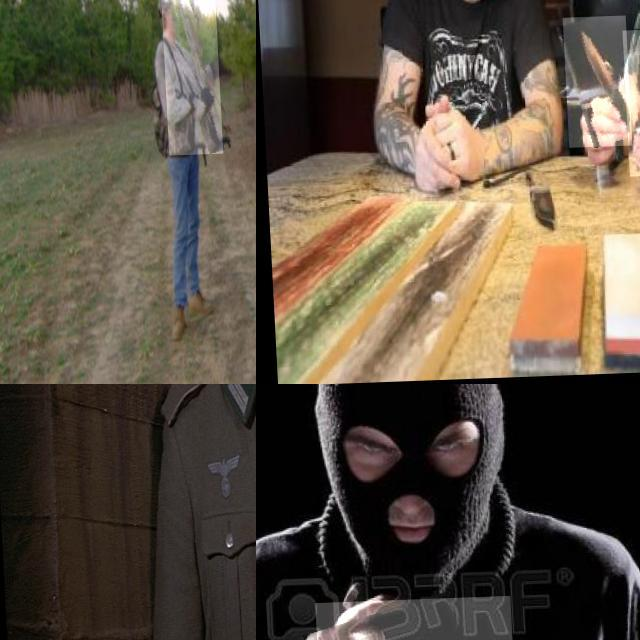-: (560, 18, 628, 150), (619, 31, 640, 179)
gun-knife-thesis - v11 Yolov5 augmented: (157, 0, 219, 157)
